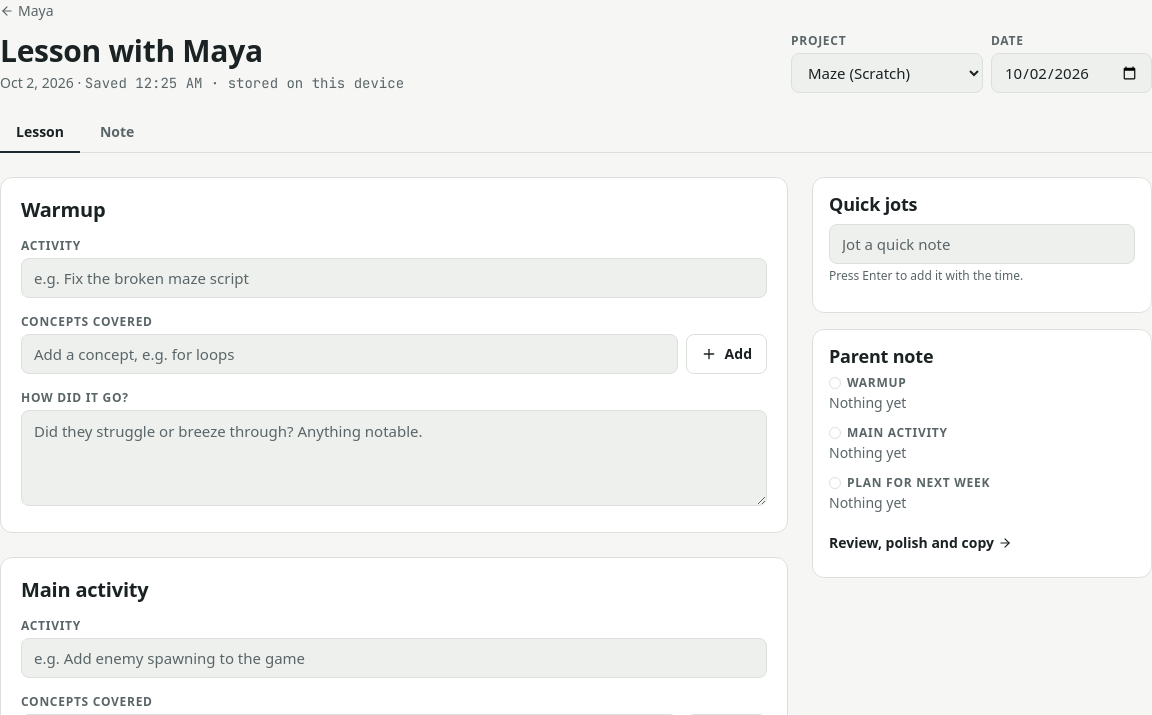
Scenario: LessonPage › deletes only the chosen jot
Type "keep me" into the field named "Quick jot".
click(982, 244); type("keep me")  # box [829,224,1135,264]
Then press Enter
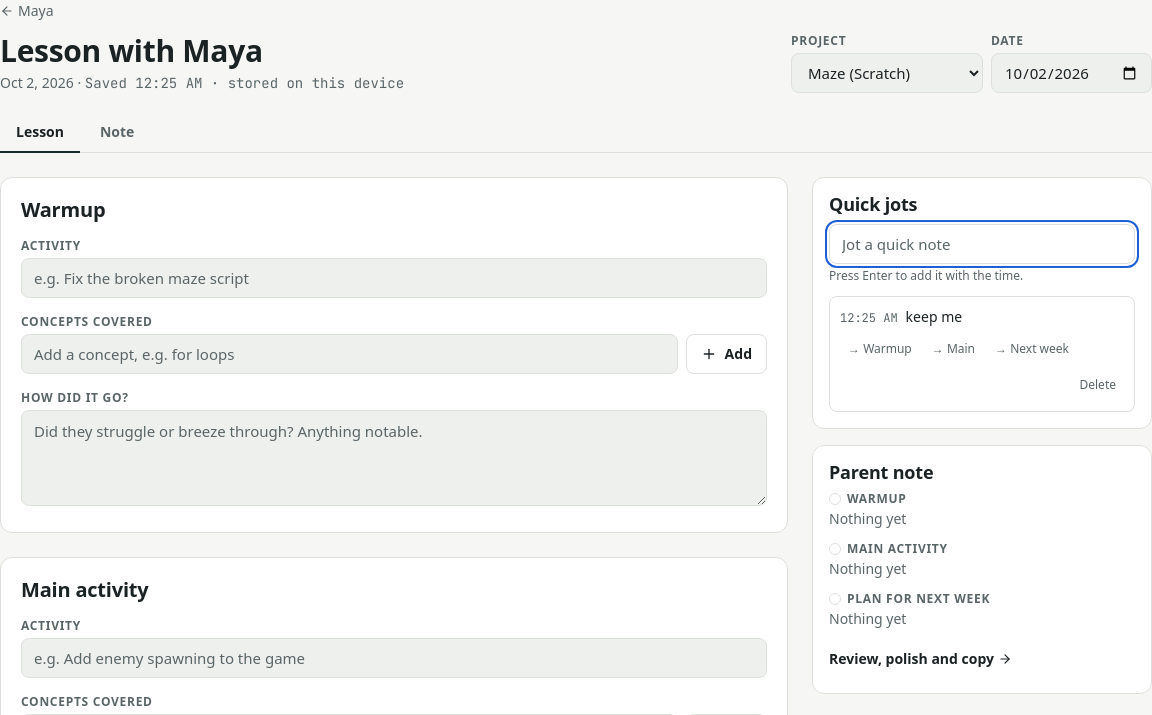
Type "drop me" into the field named "Quick jot".
click(982, 244); type("drop me")  # box [829,224,1135,264]
Then press Enter
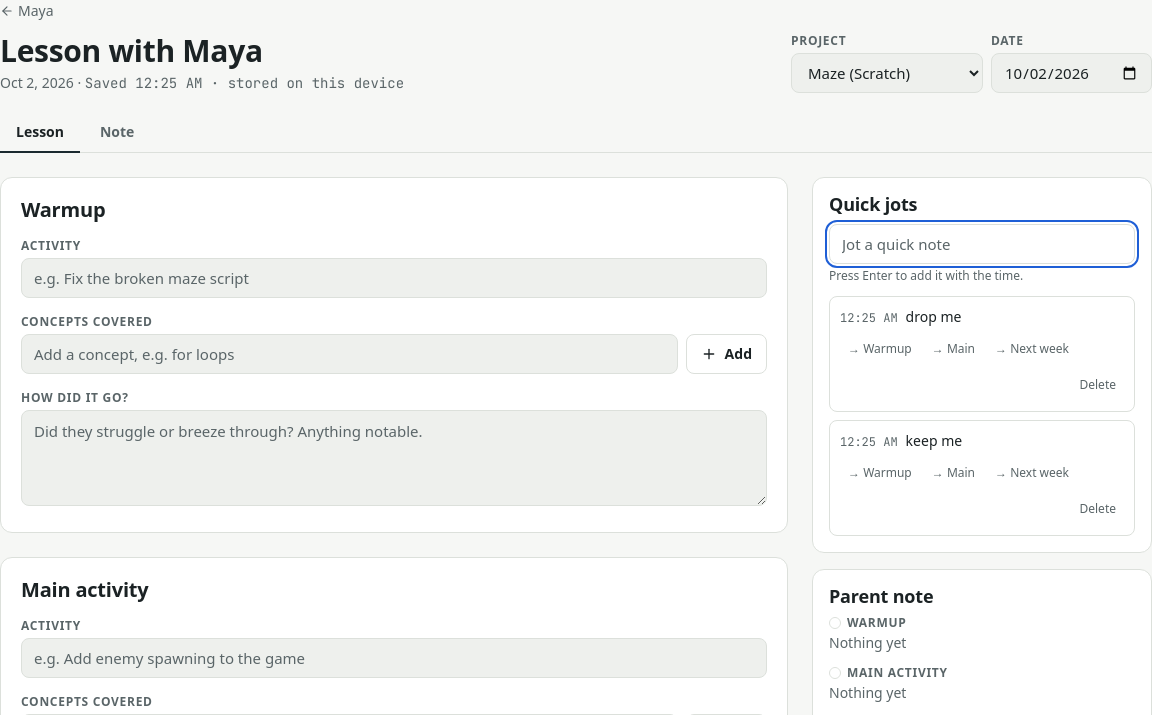
Click the button named "Delete jot \"drop me\"".
click(1098, 385)  # box [1072,369,1124,401]
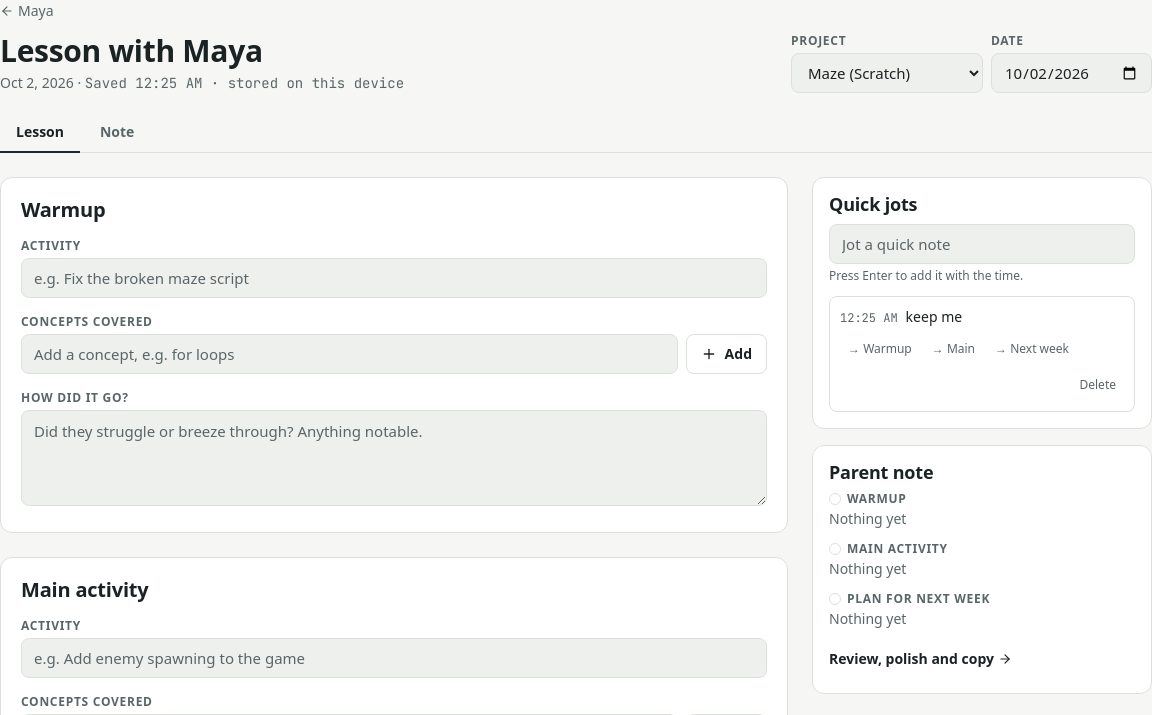
expect the text "keep me" is shown: met, box [906,307,962,326]
expect the text "drop me" is gone: met
